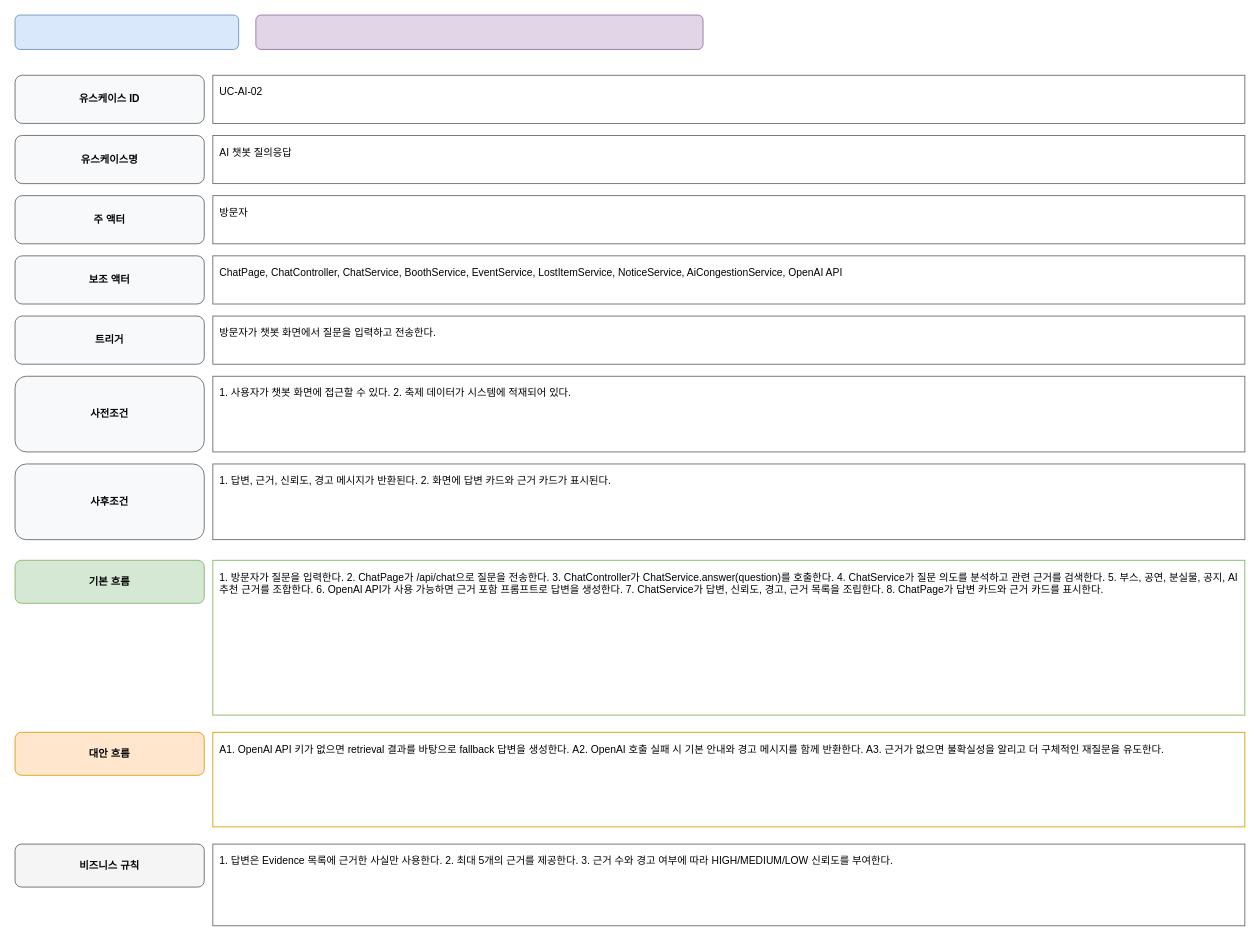
Image size: 1260x941. Some labels were removed from this diagram. Here are the shapes that lost their labels. From the top down, the centre of each, then its label:
the point at 126,31: 유스케이스 명세서
the point at 479,31: 기능: AI 챗봇 질의응답
